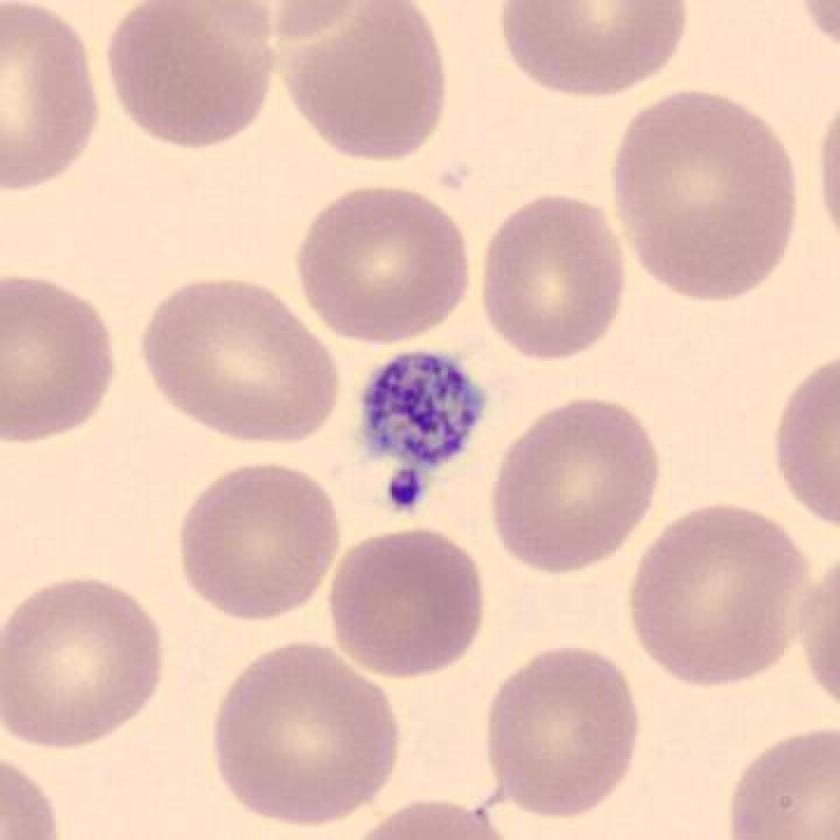platelets: (342, 334, 503, 529)
